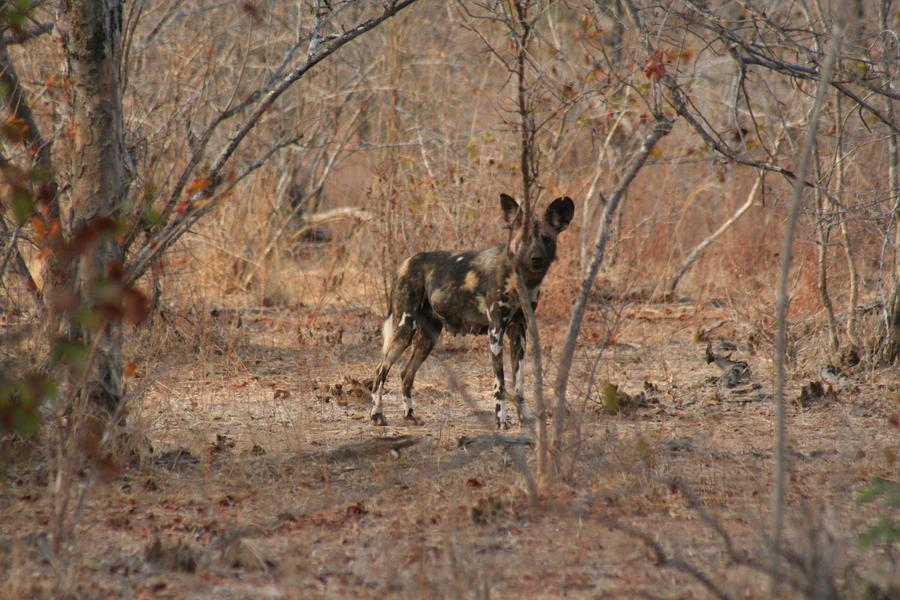wilddog: (382, 203, 573, 366)
